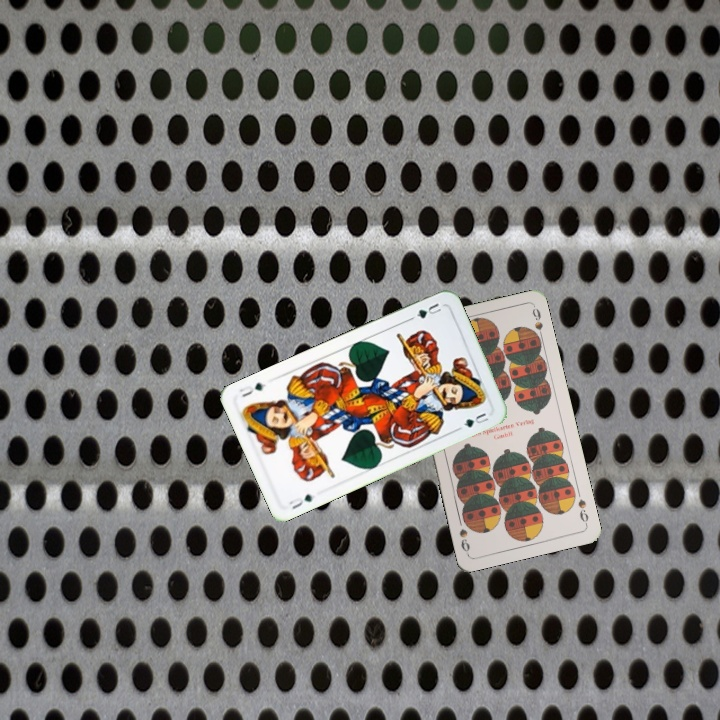GU: (412, 299, 444, 321), (285, 490, 315, 512)
S9: (574, 495, 591, 528)
